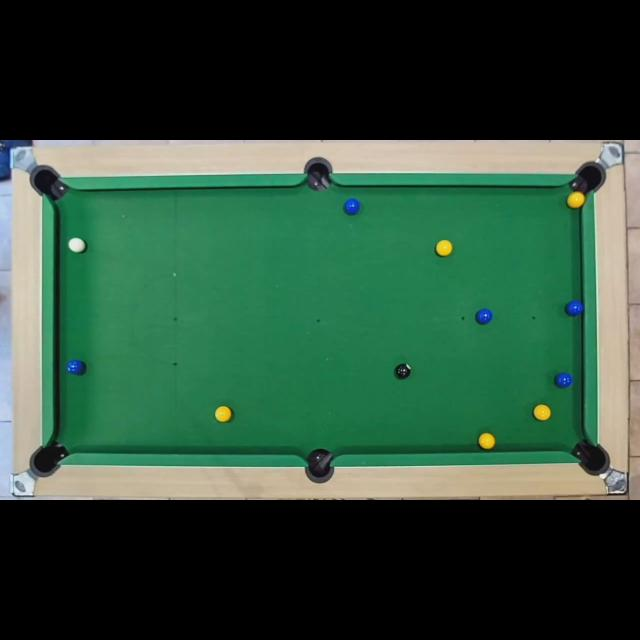Ball: (435, 240, 453, 256), (214, 406, 232, 422), (478, 433, 496, 449), (344, 199, 361, 215), (68, 237, 84, 253), (476, 309, 492, 325), (556, 373, 572, 389), (67, 360, 83, 376), (568, 192, 584, 208), (534, 405, 550, 421), (395, 364, 411, 378), (566, 302, 582, 316)
